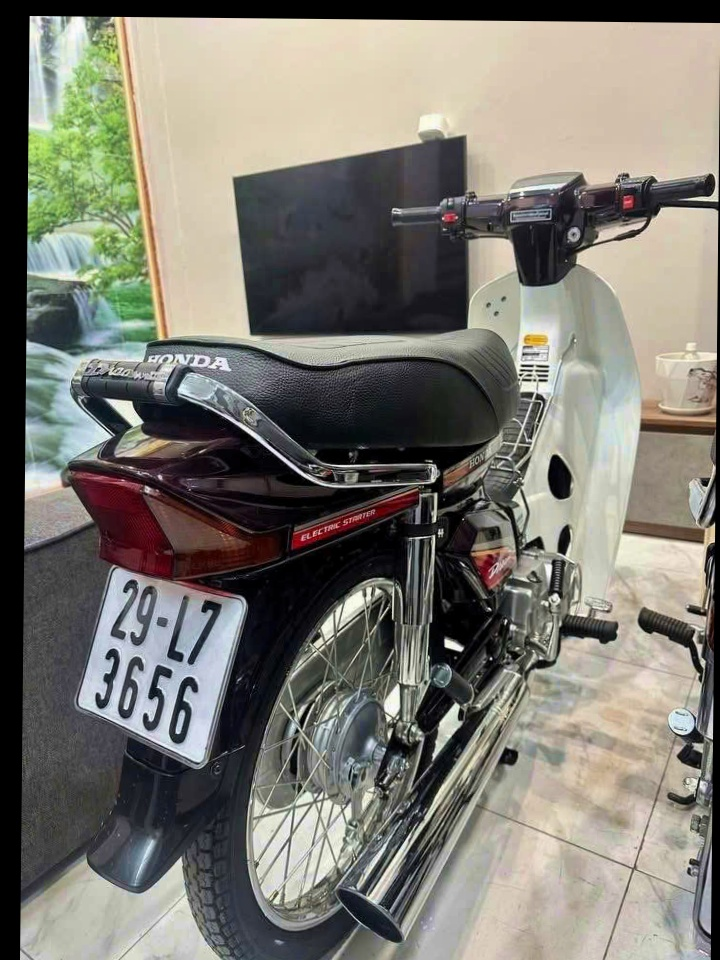Bien-so: (79, 560, 240, 767)
